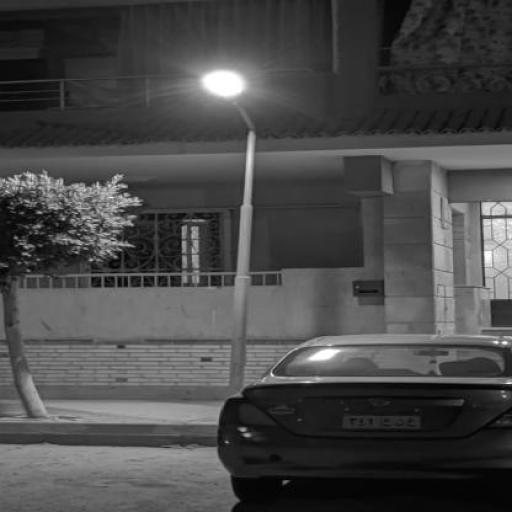street light: (198, 70, 259, 398)
